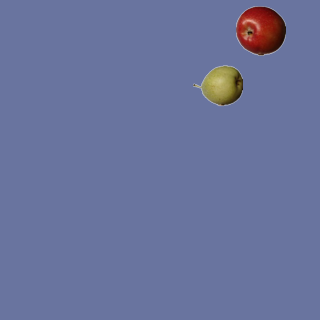Apple Braeburn: (235, 5, 285, 55)
Pear: (192, 60, 242, 110)
